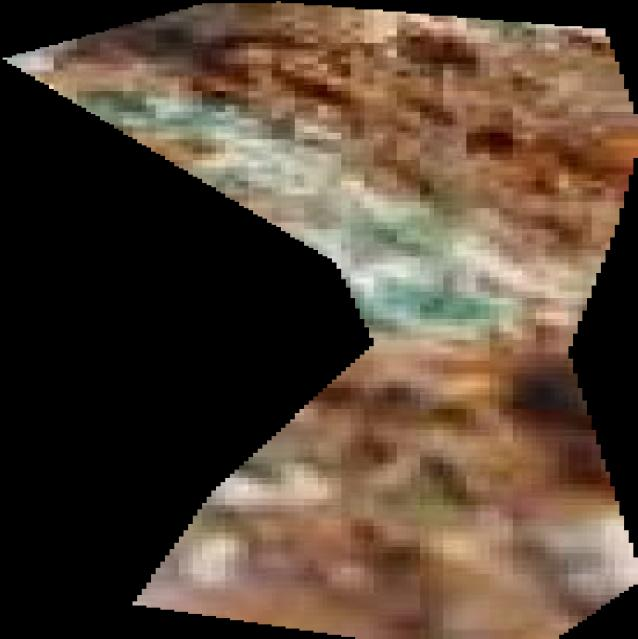Pitting Corrosion: (1, 0, 638, 639)
